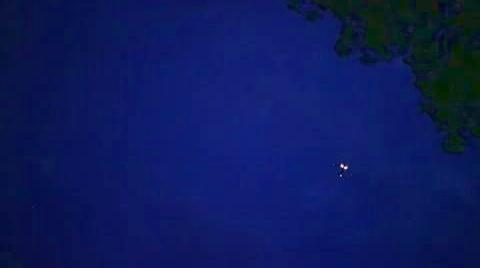Plane: (324, 156, 360, 179)
